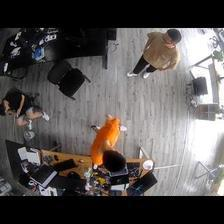normal: (124, 30, 181, 81), (83, 113, 131, 172), (1, 90, 51, 130)
